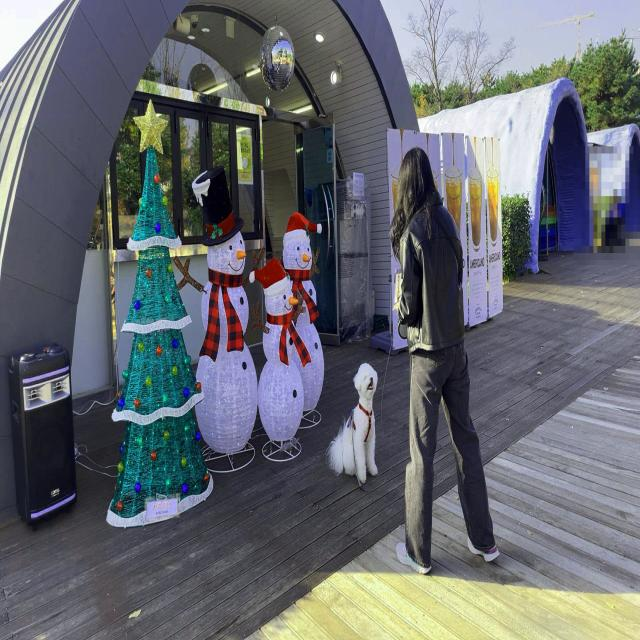Leashed_Dog: (328, 311, 423, 488)
